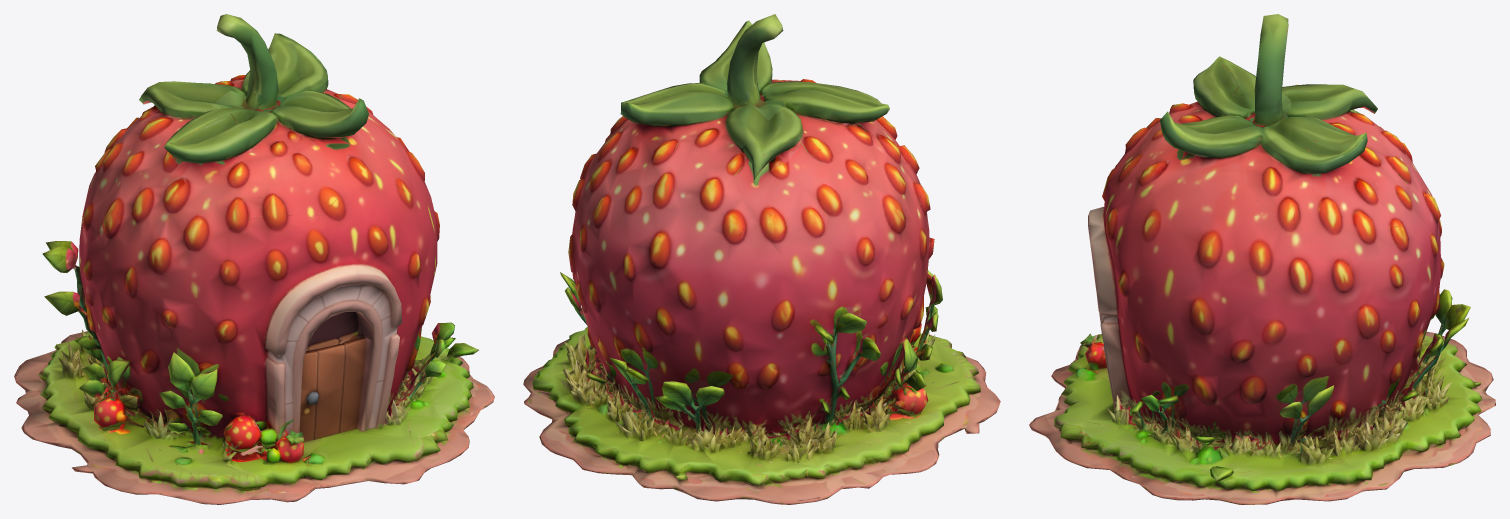
File: Meshy_AI_Generate_a_vibrant_ca_0109075117_texture.fbx
The picture shows the model from 3 angles, left to right: view 1: azimuth 30°, elevation 25°; view 2: azimuth 150°, elevation 25°; view 3: azimuth 270°, elevation 25°; orthographic projection.
Visible parts, largest first — view 1: Mesh1.0; view 2: Mesh1.0; view 3: Mesh1.0.
Part boxes in pixels (bbox=[...]): Mesh1.0: bbox=[14, 14, 494, 504]; Mesh1.0: bbox=[523, 14, 1000, 504]; Mesh1.0: bbox=[1029, 14, 1495, 504].
Size of the model in its own units: 188 by 174 by 191.
Materials: 1 (1 with a texture image).
